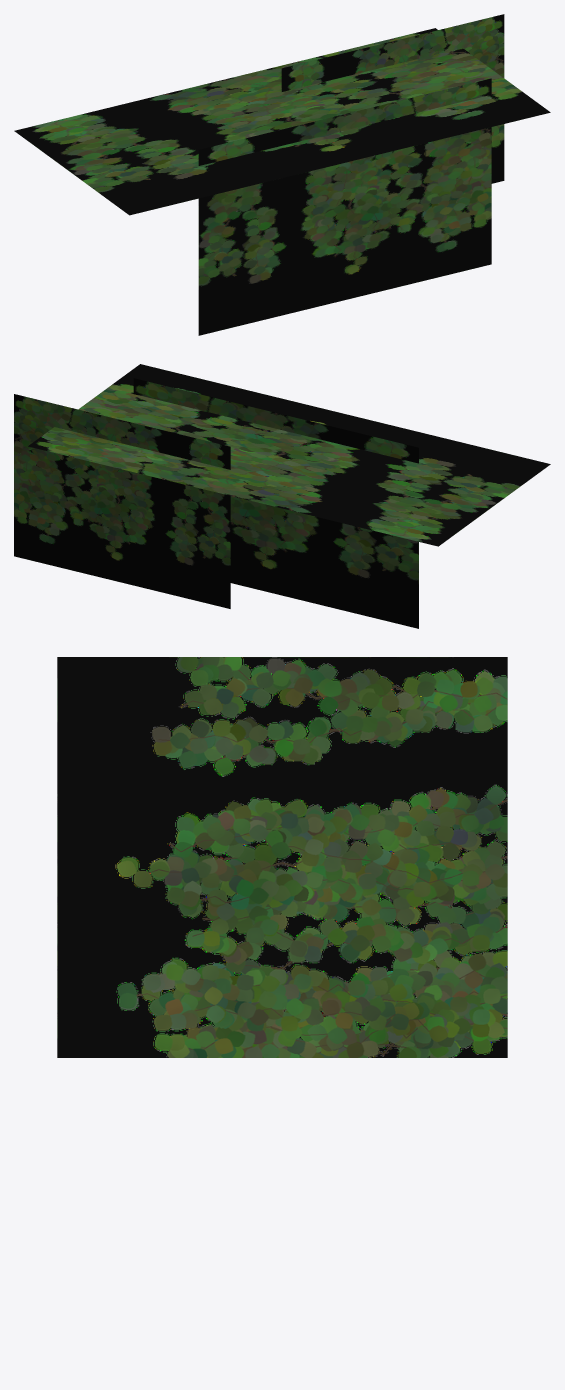
The model's file is Prop_Vine9_LOD2.gltf.
The picture shows the model from 3 angles, top to bottom: view 1: azimuth 30°, elevation 25°; view 2: azimuth 150°, elevation 25°; view 3: azimuth 270°, elevation 25°; orthographic projection. The views are drawn at different scales.
Visible parts, largest first — view 1: Prop_Vine9_LOD2; view 2: Prop_Vine9_LOD2; view 3: Prop_Vine9_LOD2.
Part boxes in pixels (x1,y1,x2,y2): Prop_Vine9_LOD2: [14, 14, 550, 335]; Prop_Vine9_LOD2: [14, 364, 550, 628]; Prop_Vine9_LOD2: [57, 657, 507, 1057].
Size of the model in its own units: 3.4 by 1.36 by 1.47.
1 material, 1 textured.
